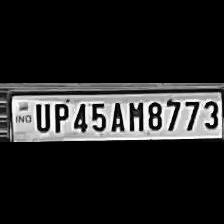3: (200, 96, 220, 128)
4: (70, 97, 88, 130)
5: (88, 97, 108, 130)
7: (180, 97, 200, 130), (164, 96, 180, 130)
8: (144, 97, 164, 130)
A: (106, 97, 126, 130)
M: (124, 97, 144, 131)
P: (48, 100, 68, 132)
U: (31, 100, 50, 132)
